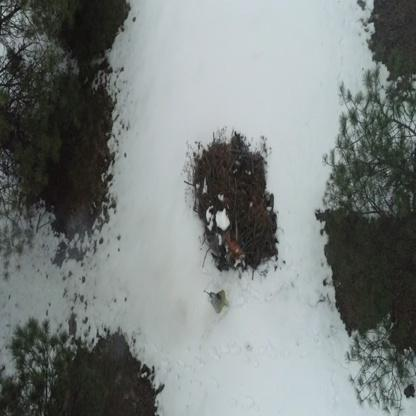Fire: (226, 238, 245, 256)
